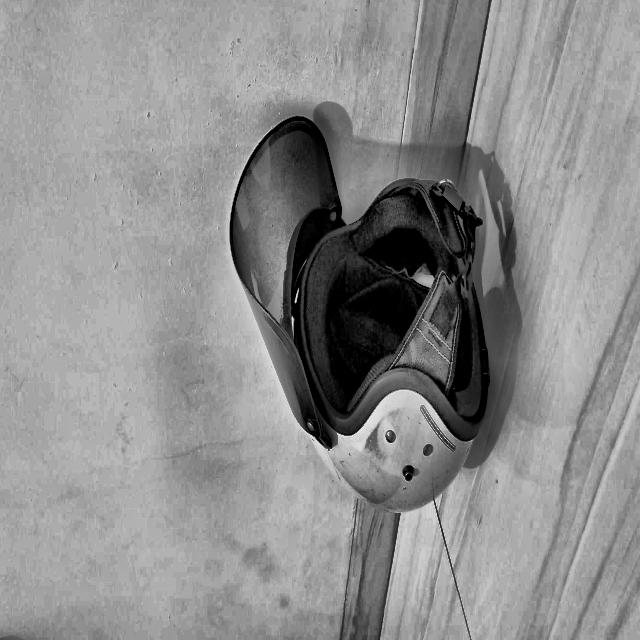Helmet: (57, 399, 302, 640)
